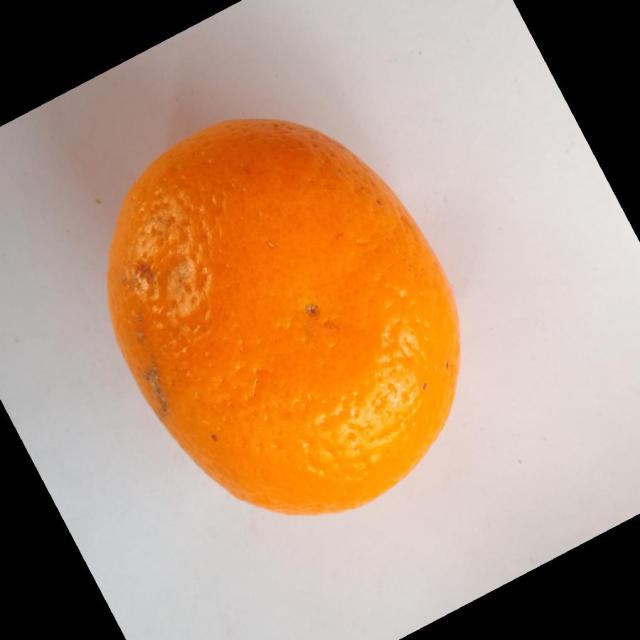fresh orange: (106, 116, 462, 516)
